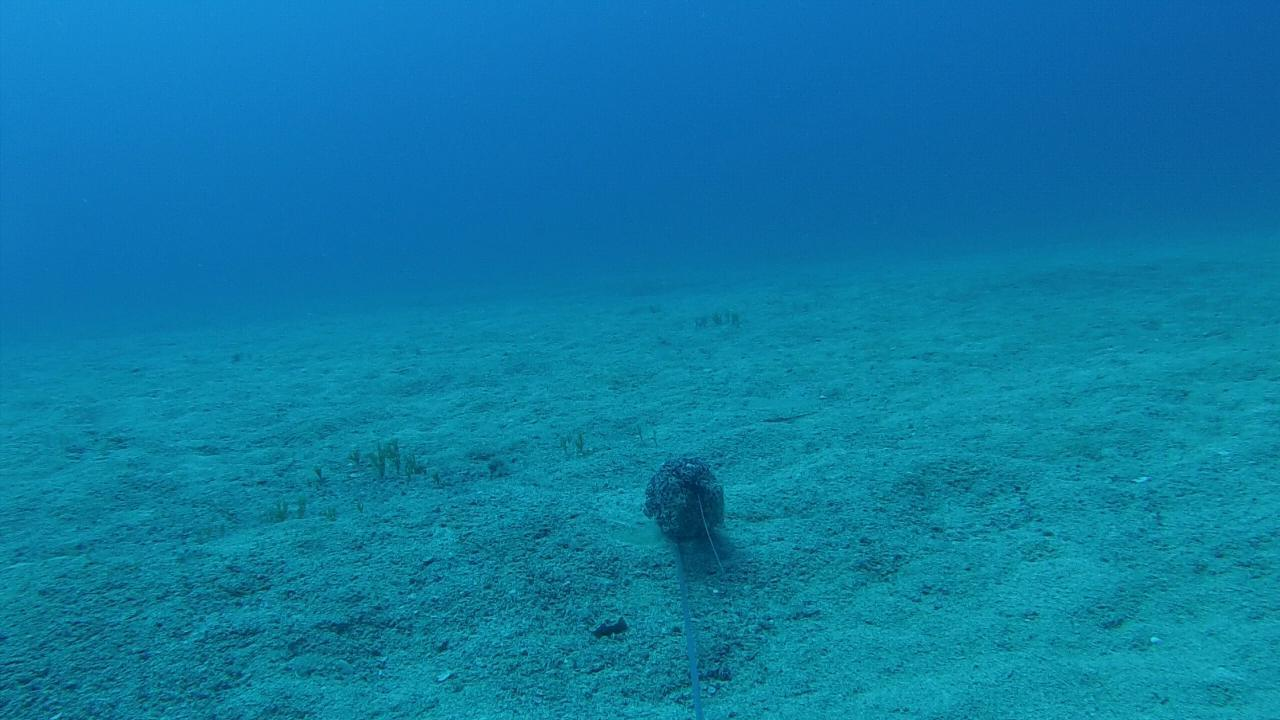bothus: (760, 402, 822, 427)
